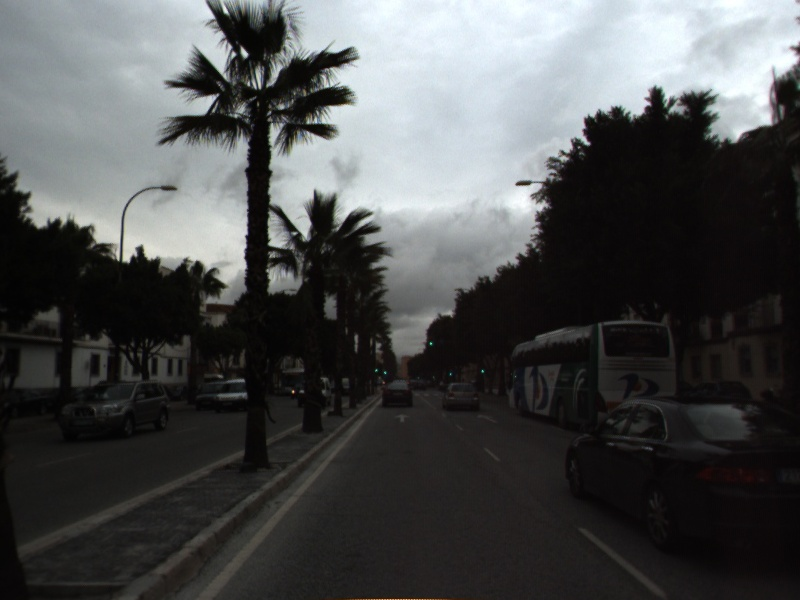STRAIGHT: (475, 412, 500, 426), (391, 412, 413, 424)
